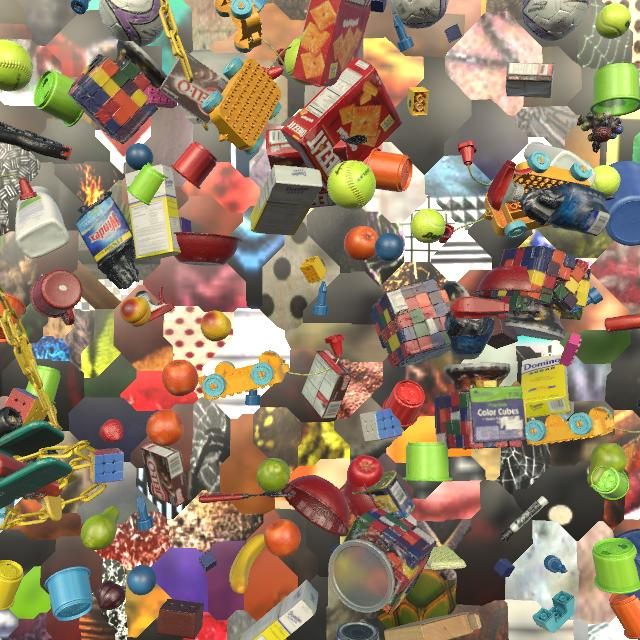ycb_003_cracker_box: (281, 57, 402, 191), (292, 0, 371, 87), (265, 129, 348, 208)
ycb_004_sugar_box: (125, 164, 181, 261), (250, 165, 323, 236), (240, 580, 319, 640), (521, 354, 570, 418)
ycb_007_tuna_fish_can: (336, 621, 379, 640)
ycb_008_pudding_box: (159, 51, 228, 123), (301, 350, 352, 419), (140, 441, 189, 507), (506, 62, 555, 98)
ycb_010_potted_meat_can: (352, 471, 415, 520)
ycb_011_banana: (229, 534, 266, 594)
ycb_012_strawberry: (99, 419, 123, 442)
ycb_013_apple: (347, 455, 384, 488)
ycb_015_peach: (200, 311, 231, 342), (119, 297, 151, 327)
ycb_016_pear: (587, 443, 626, 488), (81, 506, 119, 550), (256, 458, 290, 493)
ycb_017_orange: (264, 519, 301, 557), (146, 409, 184, 446), (161, 359, 198, 397), (344, 226, 379, 261)
ycb_018_plum: (96, 580, 126, 610)
